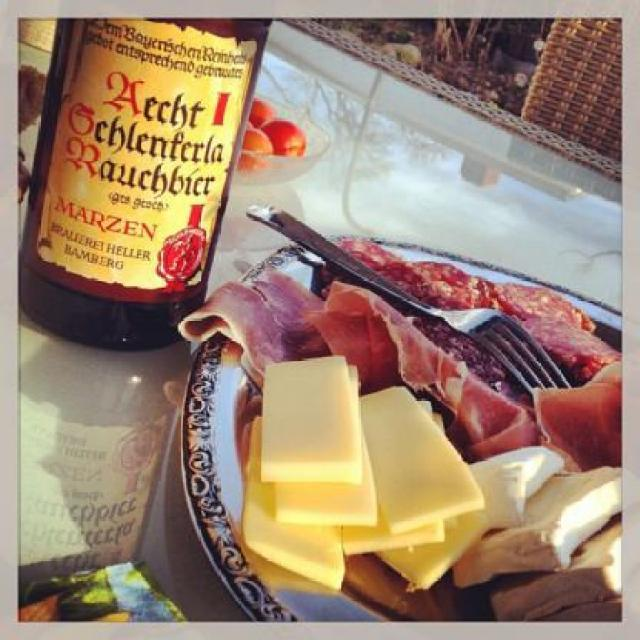Cheese: (244, 353, 496, 592)
